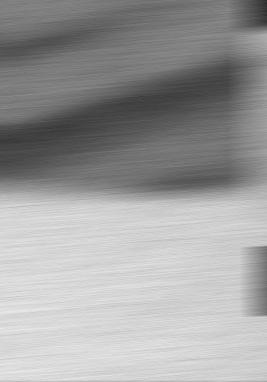Airbag: (0, 0, 267, 382), (251, 1, 267, 381)
